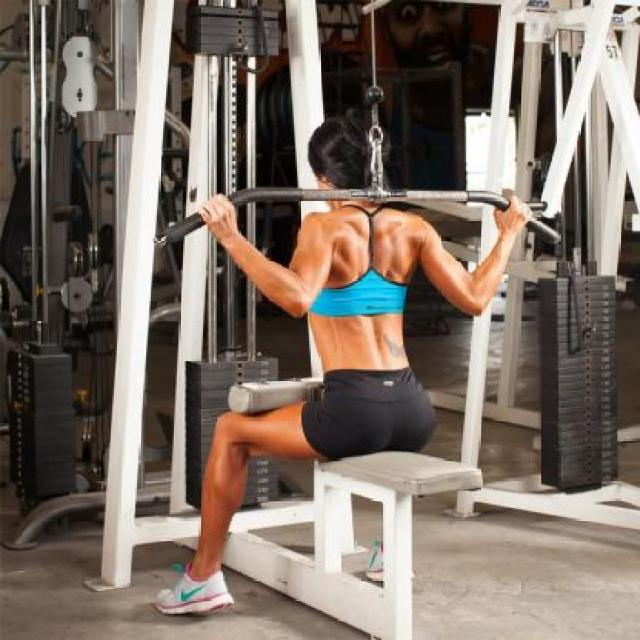Lat Pull Down: (26, 0, 563, 640)
